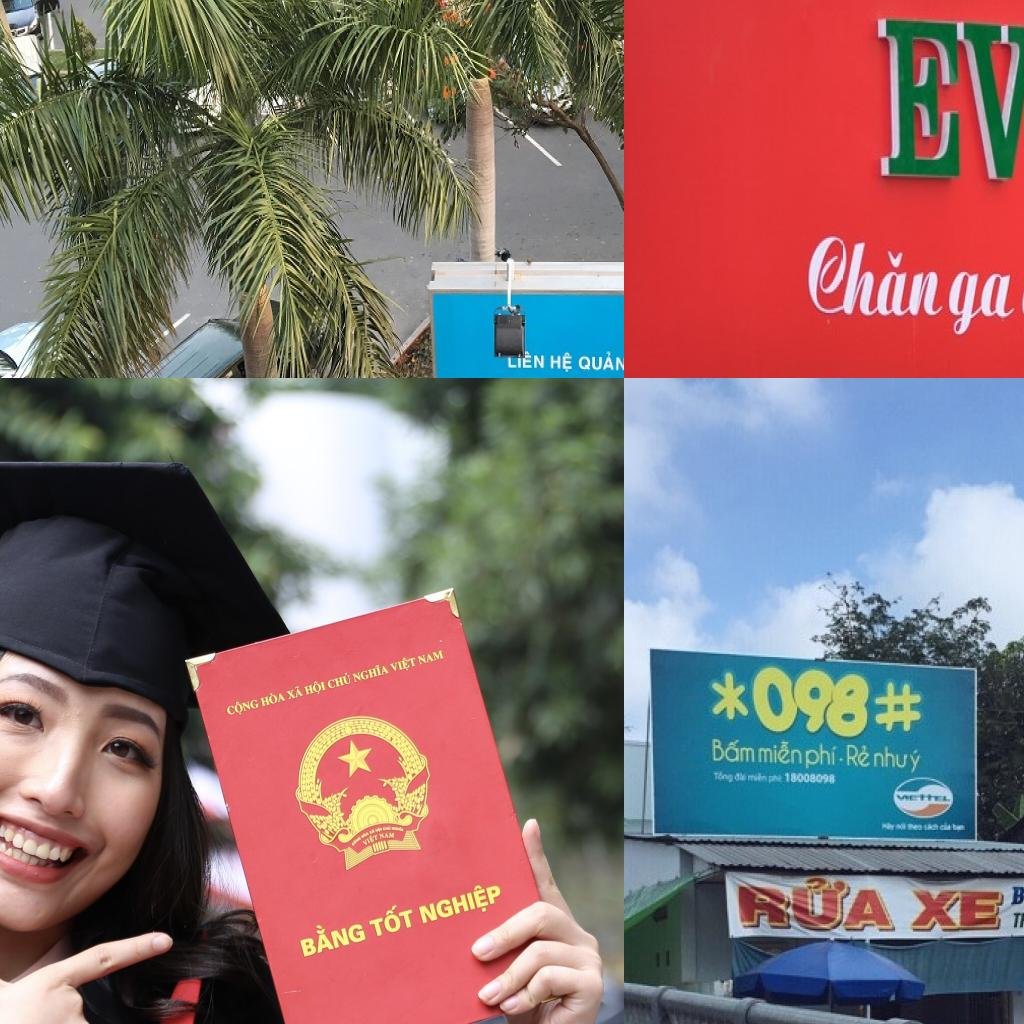text: (876, 1, 1024, 197), (805, 233, 949, 318), (738, 875, 900, 933), (751, 665, 871, 740), (942, 271, 1022, 339), (908, 886, 1006, 932), (294, 912, 370, 961), (874, 682, 922, 736), (364, 897, 418, 942), (711, 670, 751, 724), (712, 737, 758, 767), (757, 739, 804, 768), (805, 740, 840, 773), (576, 350, 624, 374), (350, 662, 392, 685), (873, 745, 911, 770), (223, 696, 261, 720), (784, 771, 837, 787), (846, 744, 873, 772), (507, 352, 545, 370), (387, 654, 418, 675), (895, 793, 953, 804), (326, 670, 353, 690), (416, 648, 446, 666), (907, 748, 926, 776), (258, 690, 287, 708), (550, 352, 573, 374), (303, 678, 328, 698), (283, 684, 305, 702), (1009, 882, 1024, 907), (360, 834, 380, 846), (1012, 911, 1024, 930), (349, 836, 363, 848), (377, 832, 395, 840), (360, 830, 370, 840), (391, 826, 405, 833), (382, 825, 392, 832), (374, 826, 382, 834), (368, 828, 376, 835)
